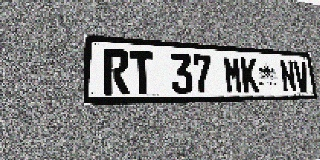3: (170, 53, 193, 94)
7: (191, 54, 213, 94)
K: (240, 57, 260, 93)
M: (223, 56, 243, 93)
N: (279, 60, 297, 93)
R: (103, 49, 130, 95)
T: (129, 50, 154, 95)
V: (293, 60, 310, 92)
